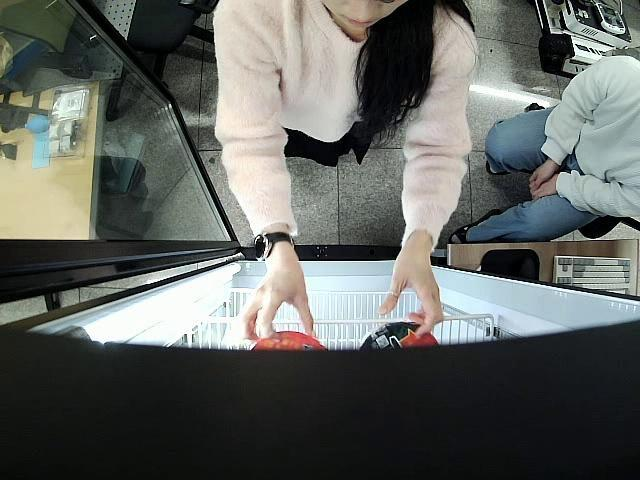01_ShinRamen_L: (242, 328, 334, 355), (360, 321, 440, 350)
